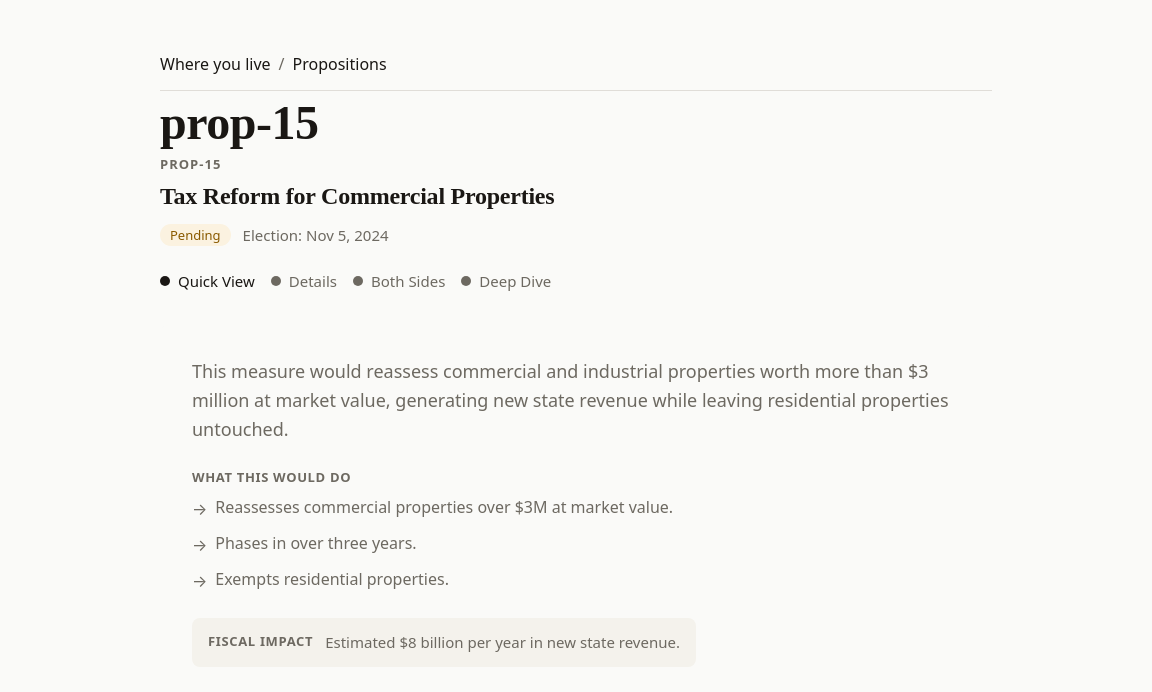
Scenario: PropositionDetailPage › Layer Navigation › should return to Layer 1 when Back to Summary is clicked
This screenshot has width=1152, height=692.
// Go to Layer 3
Click the button "Both Sides" at point(399, 281), box left=353, top=270, right=445, bottom=293
(page scrolled)
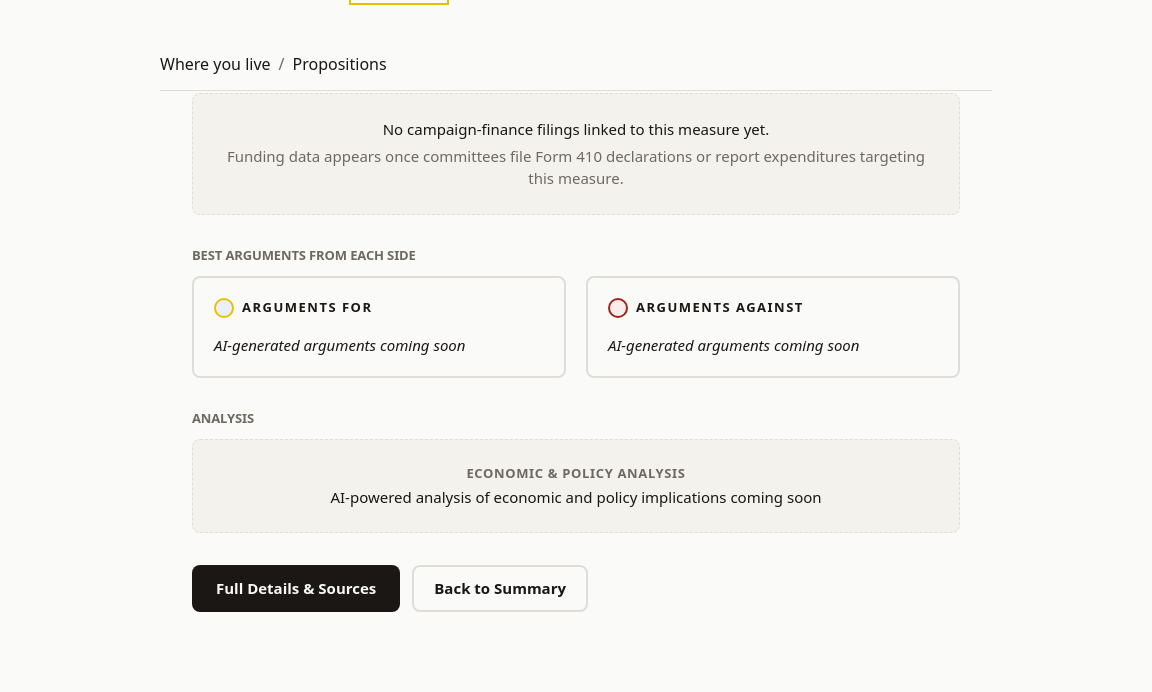
Check: the button "Back to Summary" is shown
Click the button "Back to Summary" at point(500, 588), box left=412, top=565, right=588, bottom=612
(page scrolled)
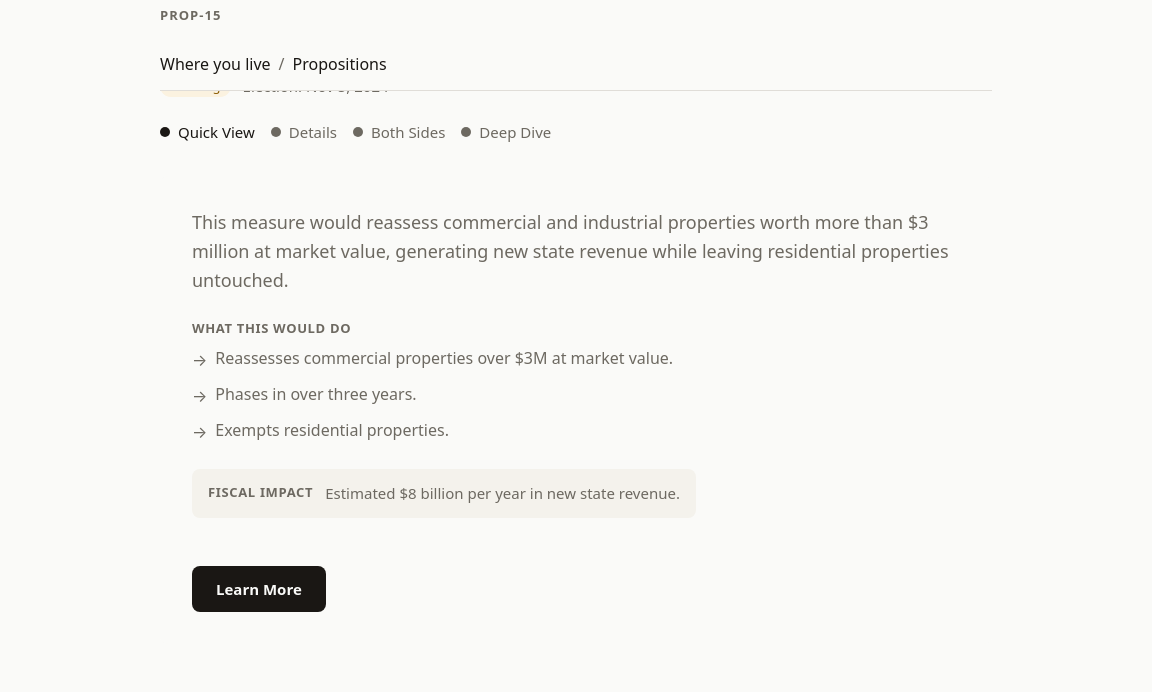
Check: the button "Learn More" is shown, box left=192, top=566, right=326, bottom=612
